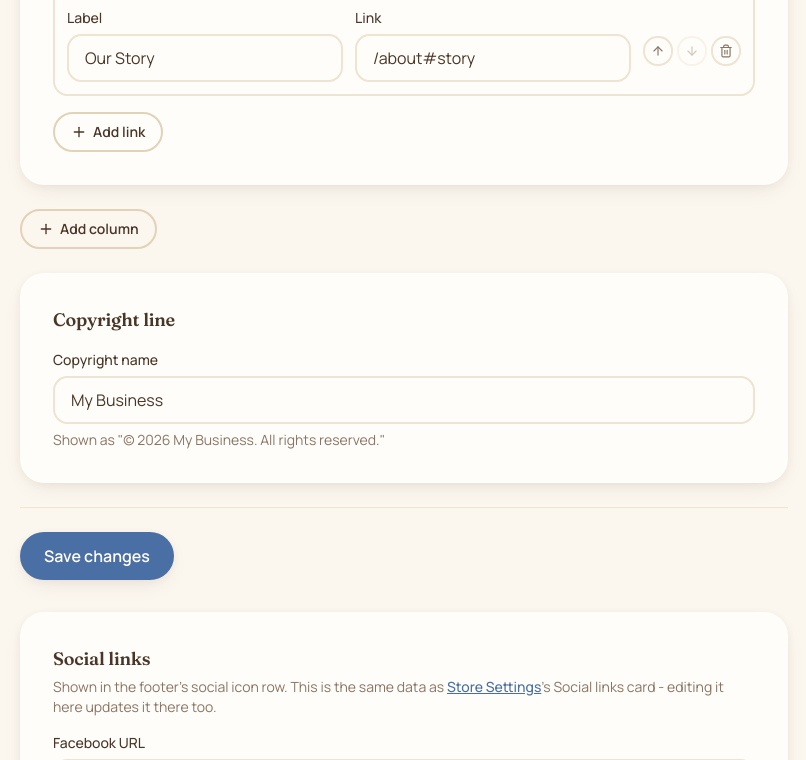
Test case: FooterEditor › blocks saving an empty copyright name
(page scrolled)
Clear the field labelled "Copyright name" at (404, 400), box left=53, top=376, right=755, bottom=424
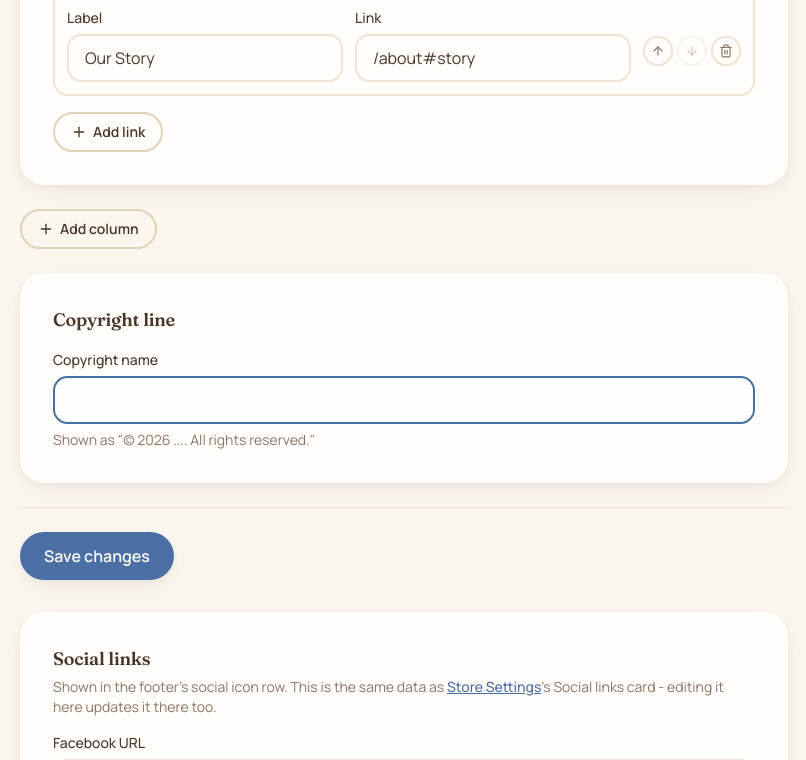
Click the button "Save changes" at (97, 556), box left=20, top=532, right=174, bottom=580
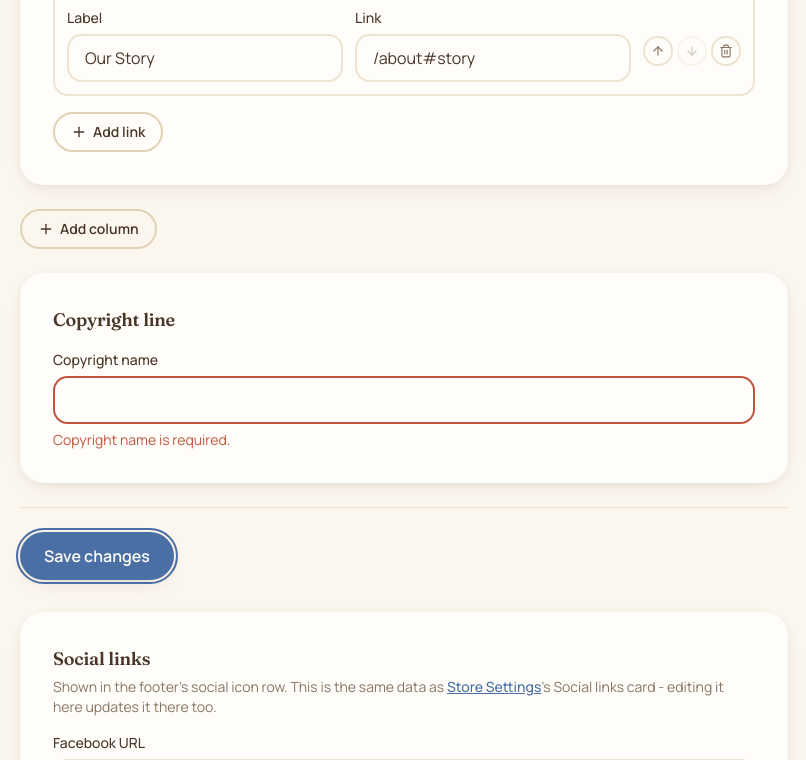
expect the text "Copyright name is required." is shown: met, box left=53, top=430, right=230, bottom=449
